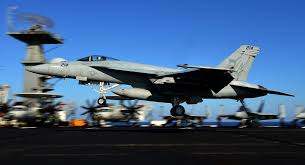fighter: (24, 39, 296, 116)
